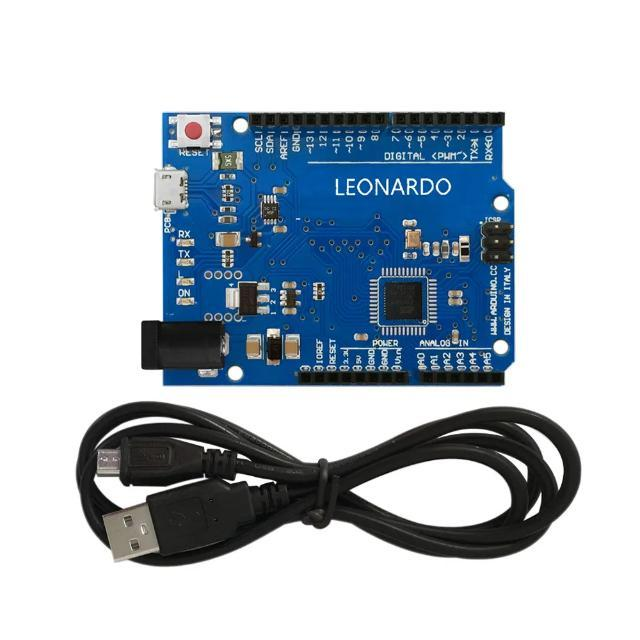Arduino-leonardo: (156, 113, 515, 385)
